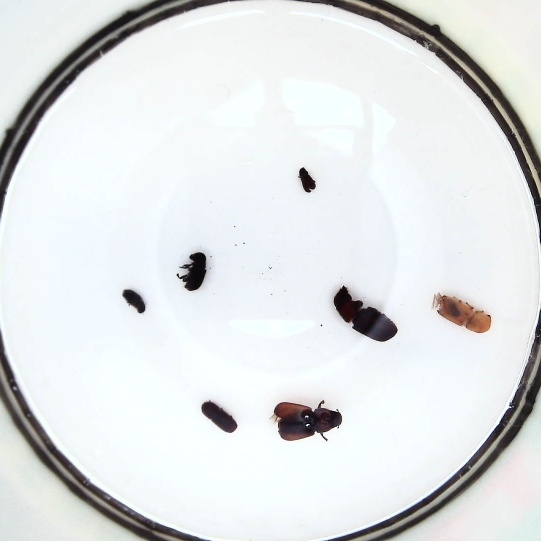acuminatus: (122, 289, 145, 313)
armandi: (183, 252, 206, 291)
boerner: (436, 294, 491, 333)
coleoptera: (299, 167, 316, 192)
leconte: (333, 284, 398, 341), (273, 402, 342, 440)
linnaeus: (201, 402, 237, 433)
